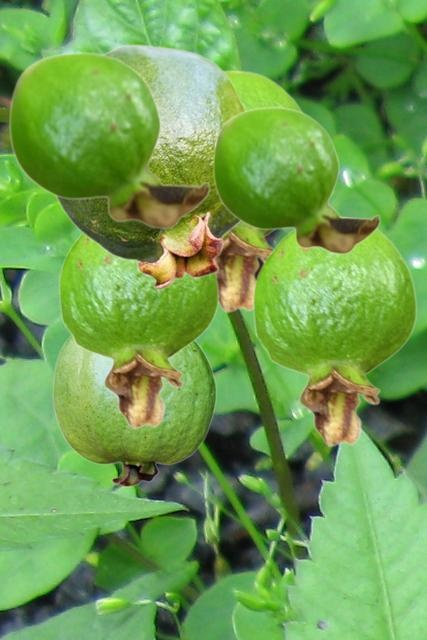guava: (55, 44, 245, 289), (8, 51, 210, 229), (252, 229, 416, 446), (58, 233, 218, 428), (212, 106, 380, 254), (52, 335, 216, 486), (217, 69, 302, 312)
